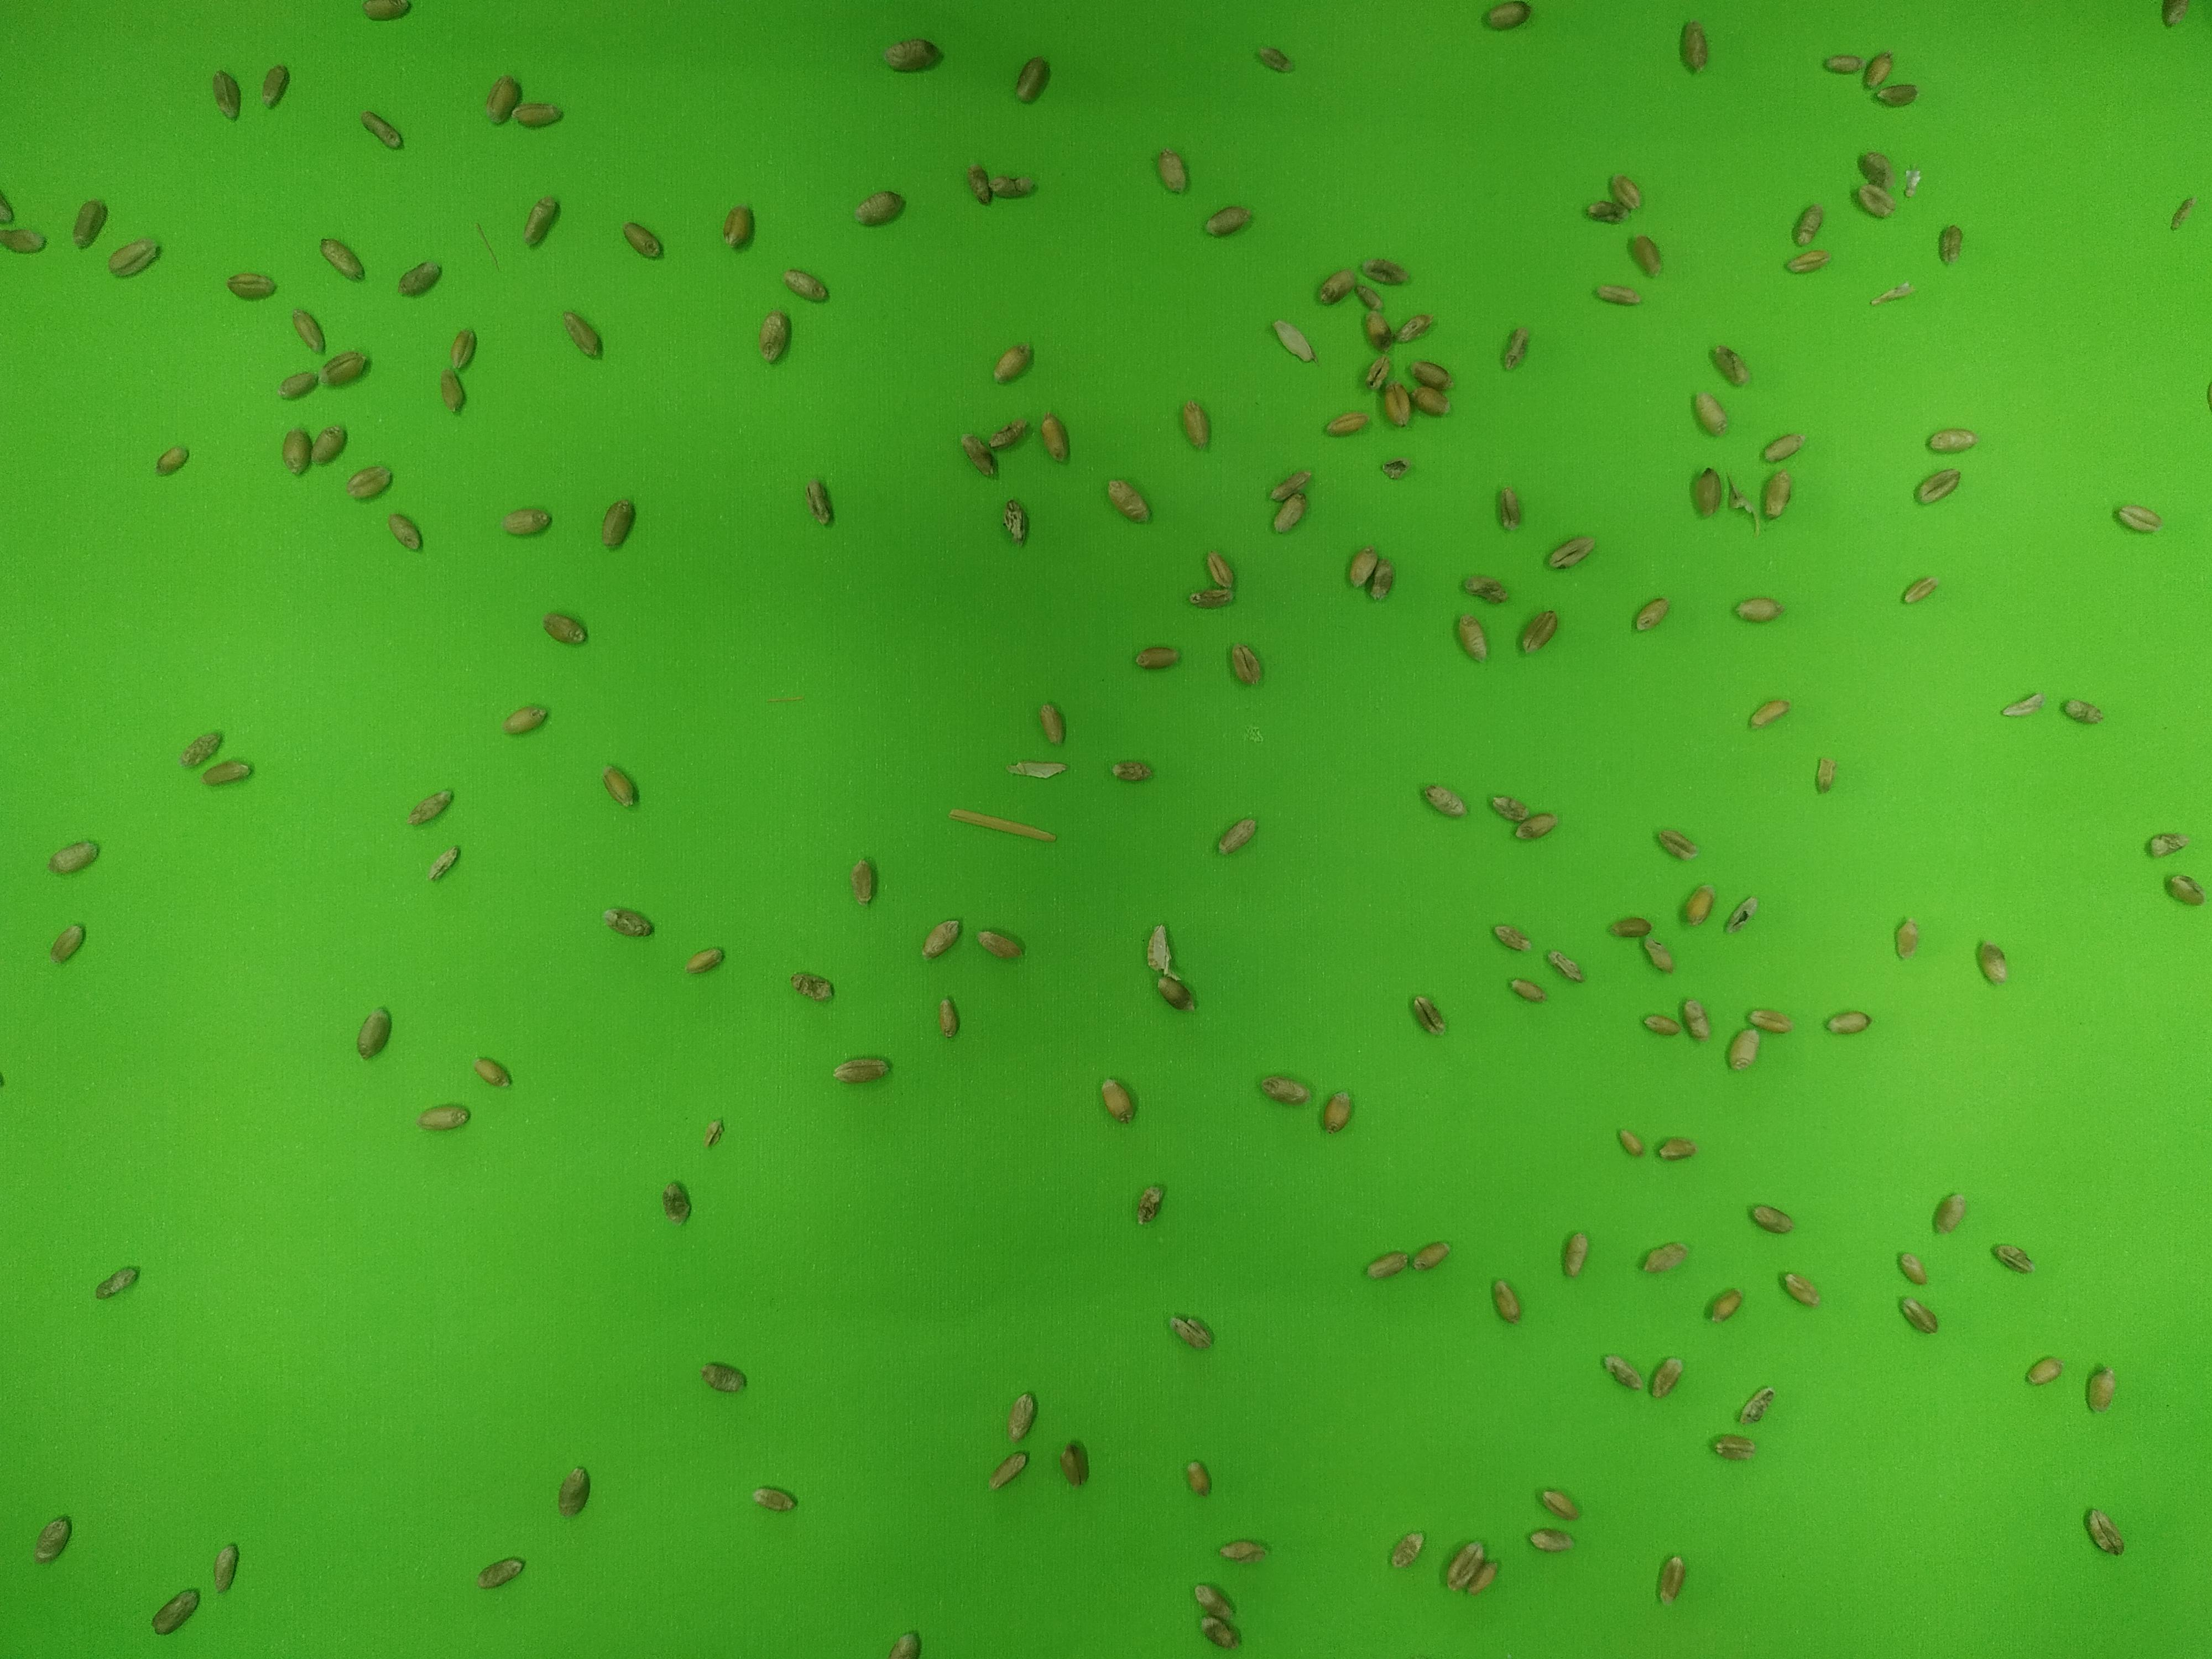bueno: (2082, 1501, 2126, 1559), (150, 1585, 201, 1634), (1107, 476, 1154, 526), (852, 184, 905, 226), (1911, 464, 1962, 507), (563, 310, 604, 362), (524, 194, 562, 250), (881, 36, 945, 70), (358, 1002, 395, 1060), (320, 236, 365, 283), (1446, 1537, 1485, 1589), (1544, 533, 1597, 572), (34, 1514, 75, 1564), (831, 1055, 896, 1086), (757, 307, 791, 366), (346, 463, 397, 502), (109, 239, 160, 278), (994, 340, 1038, 384), (207, 68, 243, 122), (1455, 609, 1491, 661), (599, 496, 634, 550), (1651, 1554, 1689, 1605), (486, 74, 522, 126), (1015, 55, 1052, 104), (310, 421, 349, 468), (1521, 607, 1560, 654), (602, 760, 641, 807), (1894, 1289, 1937, 1332), (1655, 821, 1697, 864), (75, 196, 108, 252), (321, 347, 369, 384), (1101, 1073, 1135, 1126), (990, 1447, 1032, 1490), (1152, 148, 1190, 196), (1486, 1274, 1520, 1326), (1856, 149, 1901, 188), (1681, 881, 1719, 927), (1747, 1200, 1796, 1236), (1971, 940, 2009, 986), (560, 1464, 592, 1518), (49, 837, 99, 872), (1381, 378, 1416, 428), (1627, 232, 1666, 278), (2088, 1360, 2119, 1415), (1215, 815, 1255, 858), (785, 265, 832, 301), (1723, 1025, 1759, 1072), (1270, 466, 1315, 504), (291, 305, 325, 354), (478, 1556, 528, 1590), (415, 1102, 470, 1133), (922, 916, 962, 959), (1731, 596, 1786, 627), (1271, 492, 1310, 536), (1356, 254, 1412, 284), (1035, 698, 1068, 748), (1406, 383, 1455, 417), (1794, 200, 1827, 251), (1677, 995, 1712, 1043), (622, 221, 663, 261), (1201, 206, 1251, 239), (1408, 355, 1454, 391), (1408, 993, 1447, 1036), (1481, 0, 1533, 32), (725, 200, 757, 251), (1194, 1579, 1235, 1619), (1928, 1192, 1968, 1234), (280, 426, 312, 476), (400, 259, 444, 297), (542, 609, 587, 646), (1855, 184, 1896, 223), (975, 928, 1023, 962), (203, 756, 256, 786), (1705, 1282, 1743, 1324), (1779, 1269, 1822, 1306), (1925, 424, 1980, 453), (358, 110, 402, 146), (700, 1359, 747, 1392), (661, 1179, 695, 1226), (1259, 1074, 1306, 1107), (1010, 1390, 1040, 1442), (1679, 20, 1709, 72), (1644, 1239, 1690, 1272), (1411, 1237, 1454, 1272), (212, 1540, 241, 1595), (1693, 390, 1728, 434), (1363, 1245, 1407, 1280), (1648, 1353, 1683, 1397), (1540, 1483, 1580, 1521), (962, 434, 999, 475), (846, 856, 879, 903), (1762, 469, 1792, 519), (1037, 413, 1067, 463), (53, 921, 86, 966), (1159, 977, 1199, 1014), (502, 507, 553, 536), (517, 97, 565, 128), (1562, 1230, 1593, 1279), (1182, 401, 1212, 451), (1696, 463, 1723, 518), (805, 477, 834, 528), (1322, 1087, 1354, 1133), (1195, 1615, 1239, 1648), (1899, 571, 1941, 606), (504, 702, 549, 735), (387, 511, 424, 551), (2117, 500, 2163, 532), (1708, 1432, 1757, 1461), (1787, 247, 1835, 276), (1633, 594, 1671, 633), (1230, 642, 1261, 687), (437, 364, 465, 416), (1746, 697, 1788, 731), (228, 272, 276, 301), (1316, 270, 1356, 304), (1254, 44, 1295, 78), (278, 367, 320, 399), (1749, 1005, 1793, 1036), (263, 62, 292, 110), (1323, 408, 1370, 437), (449, 325, 479, 370), (1759, 431, 1803, 462), (965, 160, 994, 207), (1218, 1536, 1270, 1562), (1350, 542, 1379, 587), (1370, 554, 1398, 600), (473, 1055, 512, 1088), (688, 941, 726, 975), (2, 224, 48, 252), (1528, 1527, 1575, 1554), (1864, 49, 1896, 89), (751, 1484, 796, 1511), (2025, 1354, 2063, 1387), (1825, 1008, 1871, 1035), (1592, 282, 1642, 306), (1652, 1133, 1699, 1160), (1641, 939, 1676, 975), (1609, 174, 1641, 212), (1896, 1250, 1929, 1287), (1136, 643, 1180, 670), (1182, 1456, 1212, 1497), (155, 440, 188, 476), (1517, 810, 1557, 838), (1469, 1558, 1501, 1594), (1206, 550, 1235, 590), (1608, 914, 1654, 938), (938, 994, 962, 1039), (1821, 51, 1863, 76), (1496, 487, 1520, 530), (1640, 1013, 1681, 1038), (1508, 975, 1545, 1001), (1616, 1125, 1644, 1159), (1357, 282, 1387, 310)
danado: (1705, 339, 1753, 389), (982, 168, 1036, 202), (181, 728, 226, 768), (1422, 781, 1468, 820), (1058, 1433, 1092, 1486), (1600, 1349, 1643, 1391), (601, 904, 654, 937), (789, 968, 838, 1003), (1987, 1241, 2035, 1276), (93, 1262, 139, 1299), (1460, 572, 1509, 606), (408, 788, 455, 822), (1487, 788, 1533, 823), (1172, 1312, 1217, 1348), (1499, 325, 1533, 371), (2162, 868, 2205, 904), (1739, 1383, 1775, 1426), (1388, 1528, 1426, 1568), (1136, 1180, 1167, 1227), (1545, 948, 1584, 984), (2060, 694, 2104, 726), (1725, 895, 1759, 935), (1003, 498, 1031, 546), (2146, 828, 2189, 859), (430, 843, 462, 884), (1937, 222, 1965, 268), (1812, 751, 1841, 794), (989, 416, 1028, 447), (1105, 758, 1154, 783), (2167, 195, 2195, 236), (1366, 312, 1396, 352), (1893, 918, 1918, 963), (1493, 921, 1531, 951), (1396, 313, 1432, 345), (1878, 81, 1919, 107), (1584, 200, 1627, 225), (1186, 587, 1235, 608), (1366, 355, 1393, 392), (707, 1112, 728, 1144)
impureza: (946, 806, 1056, 846), (1723, 467, 1761, 539), (1144, 920, 1180, 983), (1271, 317, 1314, 362), (1999, 690, 2046, 722), (1005, 759, 1069, 782), (1872, 279, 1917, 309), (477, 219, 501, 270), (1902, 159, 1925, 200), (1381, 454, 1411, 482)
